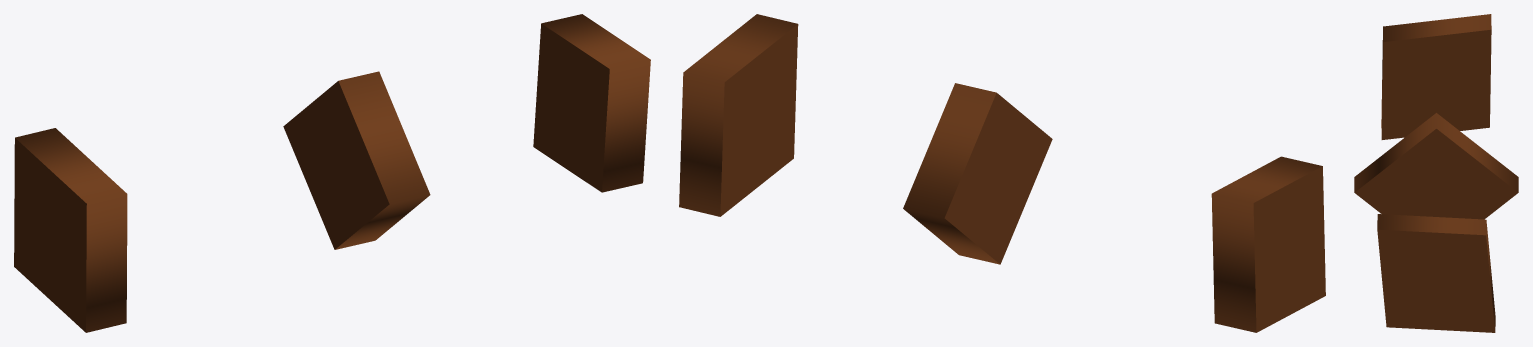
File: disparo1.fbx
The picture shows the model from 3 angles, left to right: view 1: azimuth 30°, elevation 25°; view 2: azimuth 150°, elevation 25°; view 3: azimuth 270°, elevation 25°; orthographic projection. The views are drawn at different scales.
Visible parts, largest first — view 1: Regroup03; view 2: Regroup03; view 3: Regroup03.
Boxes of the visible parts, x1,y1,x2,y2 form: Regroup03: [14, 14, 650, 332]; Regroup03: [679, 14, 1325, 332]; Regroup03: [1354, 14, 1518, 332].
Size of the model in its own units: 14.44 by 4.12 by 4.7.
